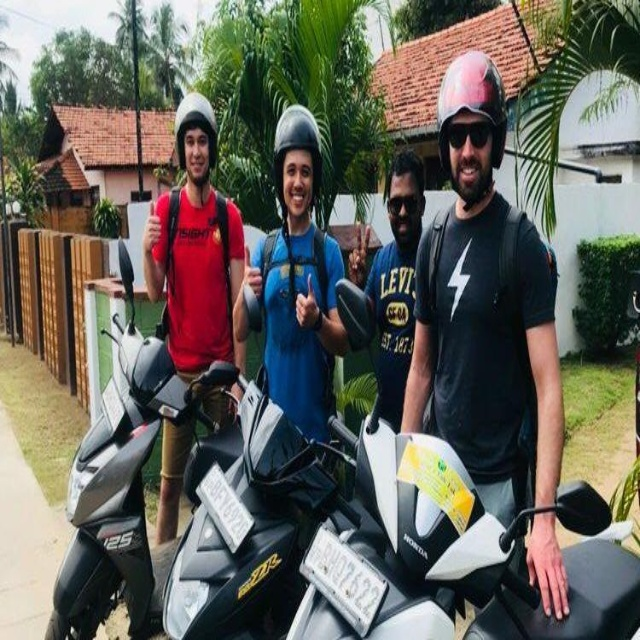Motorcycle: (285, 275, 640, 640), (44, 237, 247, 640), (162, 285, 363, 640)
